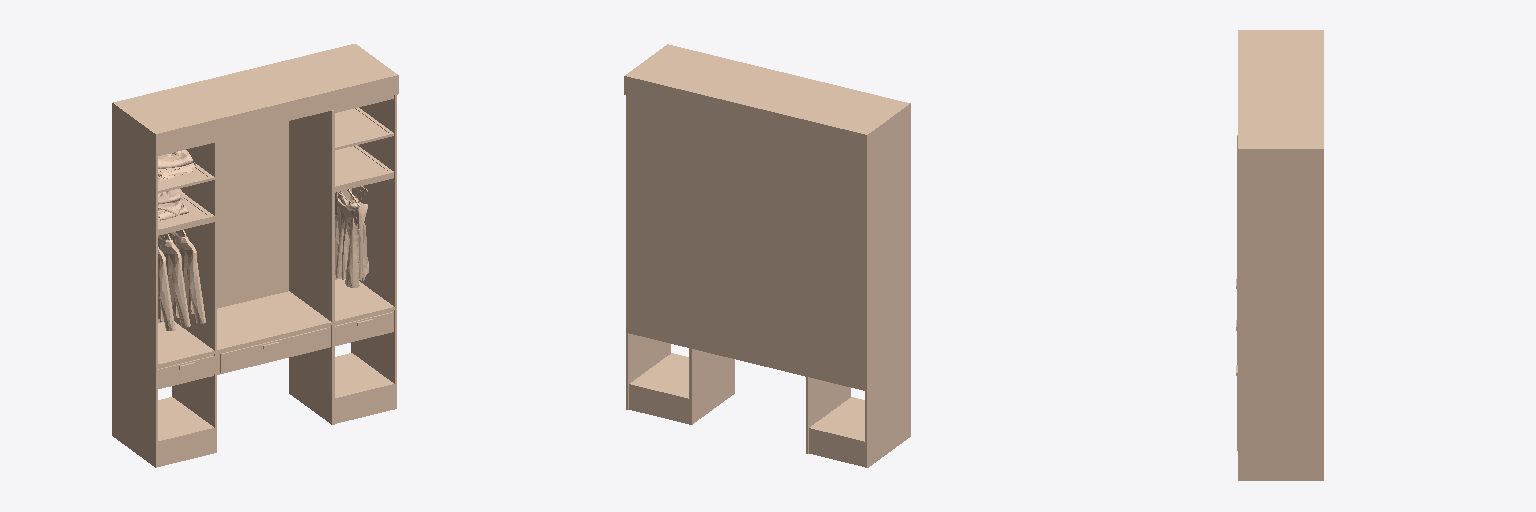
3 views of the same model, side by side, from view 1: azimuth 30°, elevation 25°; view 2: azimuth 150°, elevation 25°; view 3: azimuth 270°, elevation 25° (orthographic).
Visible parts, largest first — view 1: solid_001, solid_004, glass_003; view 2: solid_001; view 3: solid_001.
Part boxes in pixels (left/top/right/bottom): solid_001: left=112, top=44, right=398, bottom=467; solid_004: left=158, top=150, right=368, bottom=330; glass_003: left=158, top=108, right=387, bottom=226; solid_001: left=624, top=44, right=910, bottom=467; solid_001: left=1237, top=30, right=1323, bottom=480.
Size of the model in its own units: 1.1 by 1.45 by 0.348.